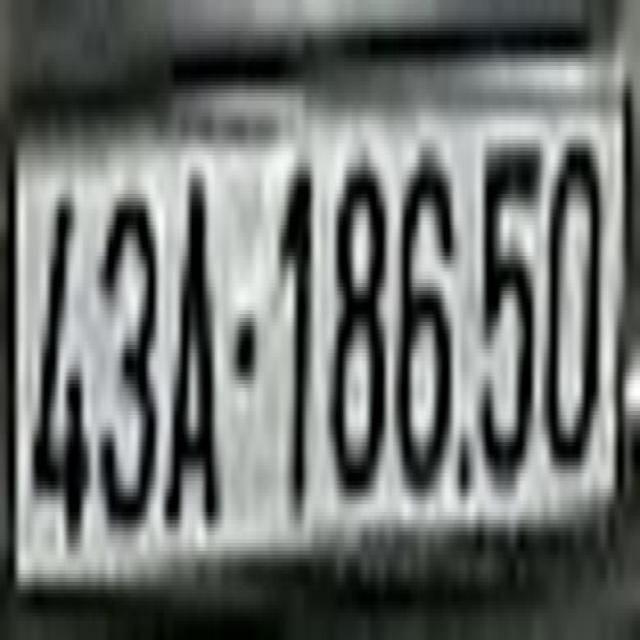0: (548, 109, 602, 478)
1: (276, 140, 314, 512)
3: (99, 175, 157, 528)
4: (28, 182, 94, 558)
5: (477, 97, 540, 489)
6: (400, 112, 458, 500)
8: (326, 143, 386, 504)
A: (164, 162, 224, 536)
